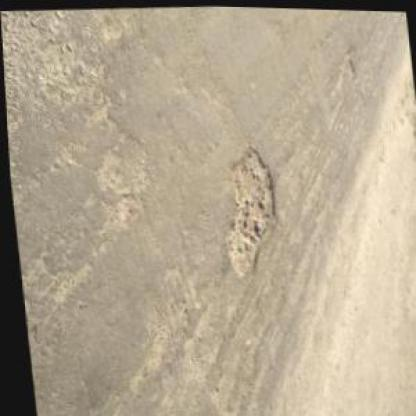pothole: (212, 142, 282, 282), (329, 46, 359, 86)
